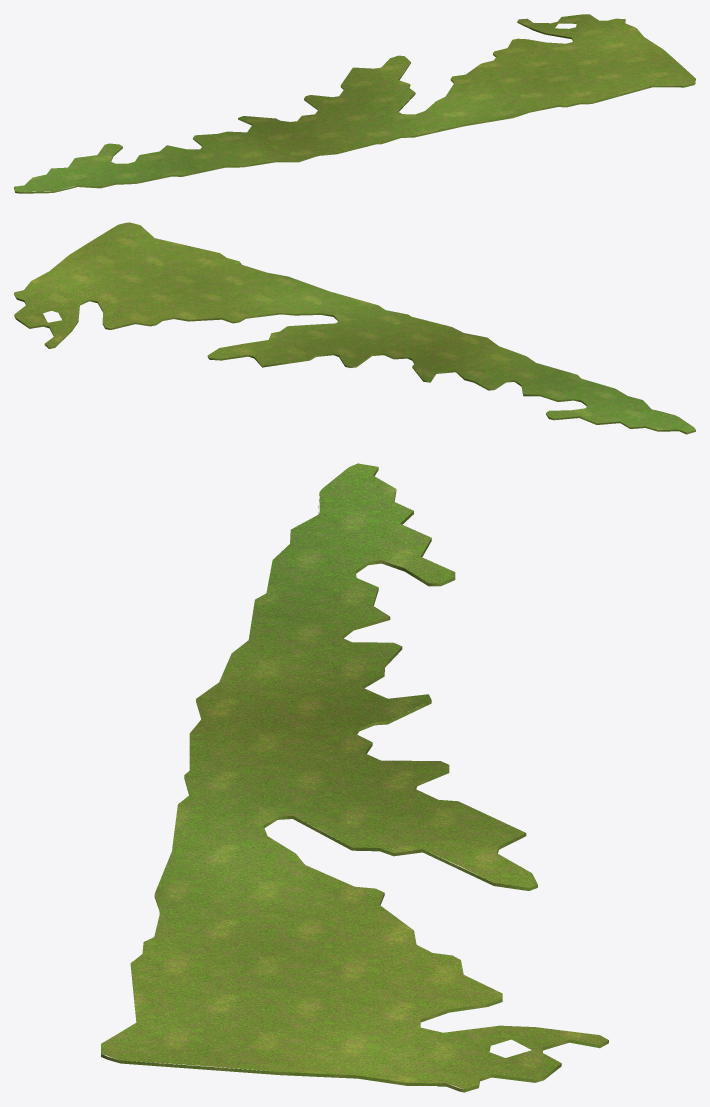
Rendered from lawn_03.glb.
3 views of the same model, one above another, from view 1: azimuth 30°, elevation 25°; view 2: azimuth 150°, elevation 25°; view 3: azimuth 270°, elevation 25° (orthographic). The views are drawn at different scales.
Visible parts, largest first — view 1: lawn_03.surface, lawn_03.sides; view 2: lawn_03.surface, lawn_03.sides; view 3: lawn_03.surface, lawn_03.sides.
Boxes of the visible parts, <box> form: lawn_03.surface: <box>14,14,695,191</box>; lawn_03.sides: <box>14,19,695,193</box>; lawn_03.surface: <box>14,222,695,432</box>; lawn_03.sides: <box>14,222,695,434</box>; lawn_03.surface: <box>101,463,608,1089</box>; lawn_03.sides: <box>101,467,608,1092</box>.
Bounding box in the file's own units: 24.9 × 0.69 × 8.6.
1 material, 1 textured.
